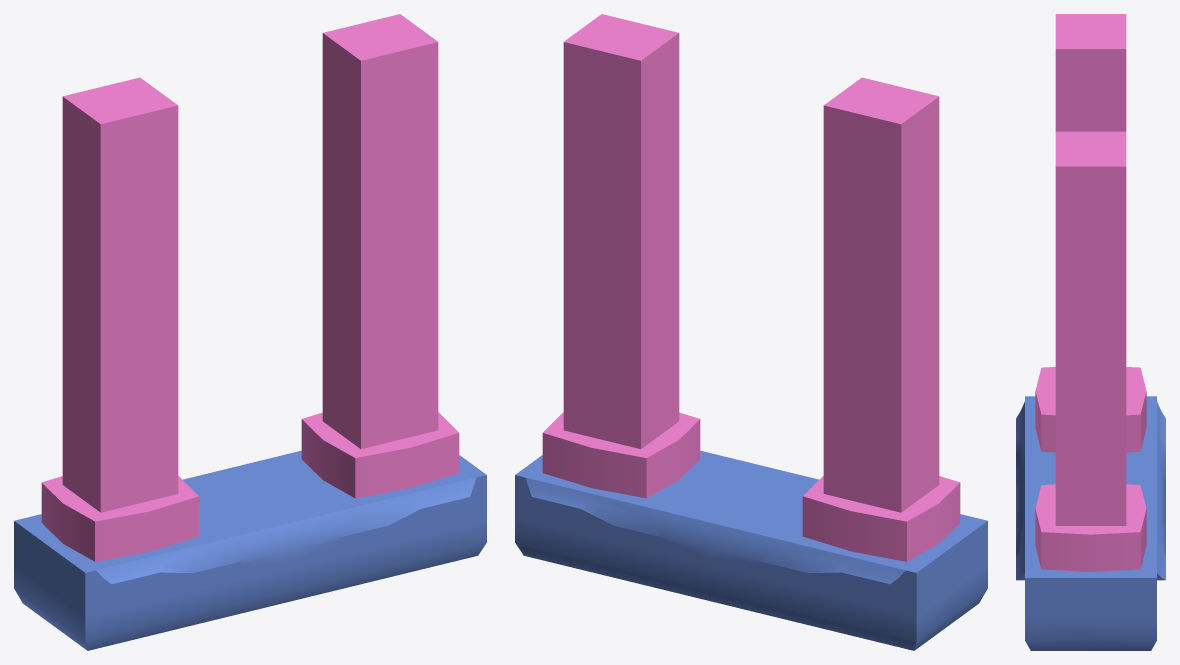
File: FactoryPress.fbx
3 views of the same model, side by side, from view 1: azimuth 30°, elevation 25°; view 2: azimuth 150°, elevation 25°; view 3: azimuth 270°, elevation 25° (orthographic). The views are drawn at different scales.
Parts seen in each view (by area): view 1: FactoryPress; view 2: FactoryPress; view 3: FactoryPress.
Boxes of the visible parts, x1,y1,x2,y2 form: FactoryPress: (14,14,486,650); FactoryPress: (515,14,987,650); FactoryPress: (1016,14,1165,650).
Size of the model in its own units: 76.33 by 93.78 by 26.62.
